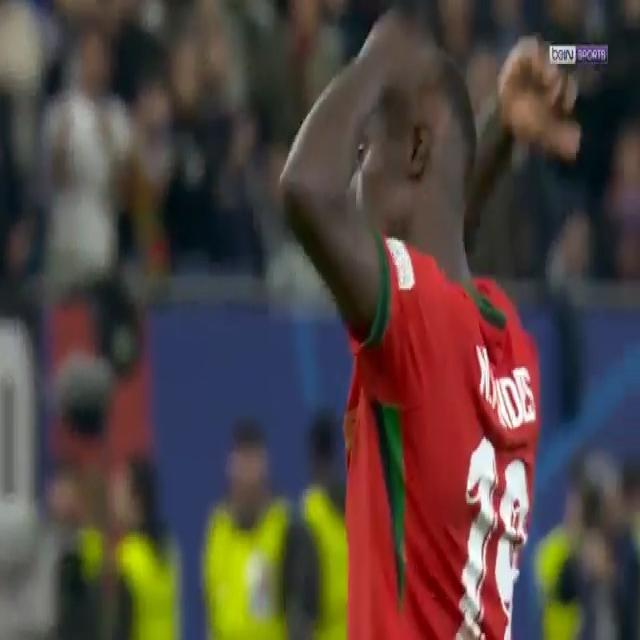joueur: (280, 7, 555, 634)
